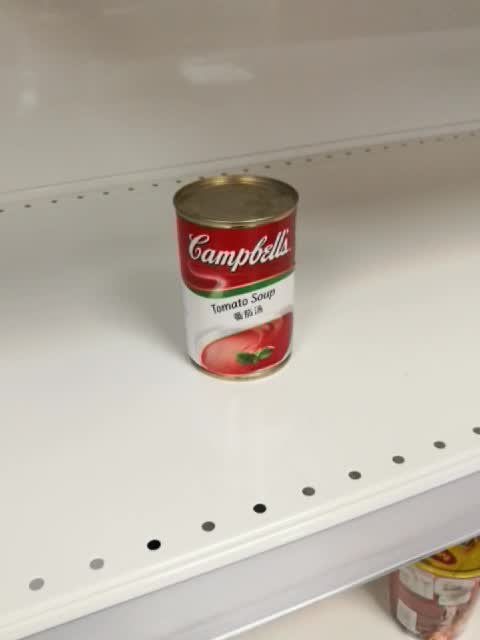tomatosoup: (170, 173, 301, 382)
